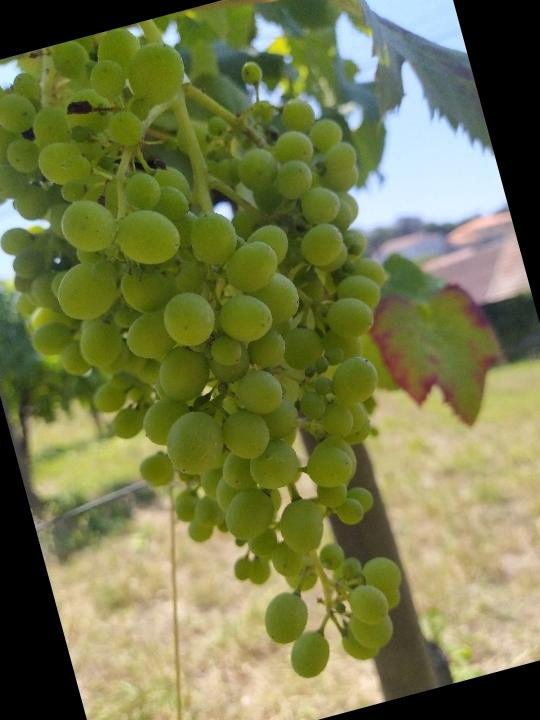grape: (0, 0, 489, 720)
